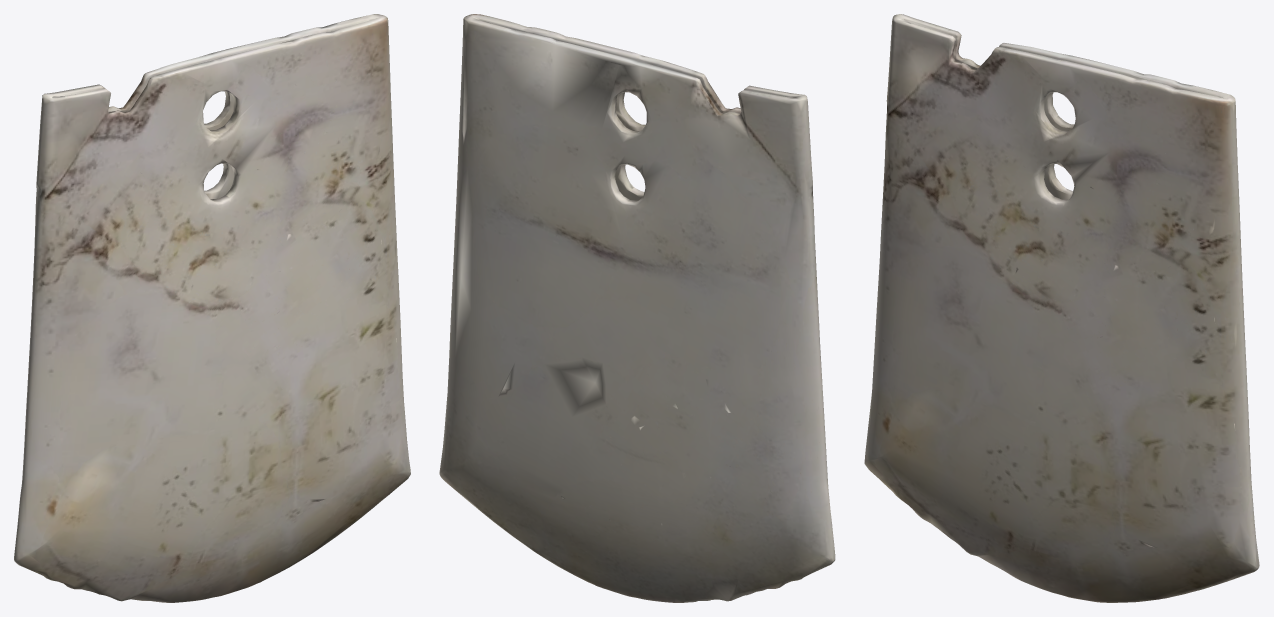
File: double-hole-yue-roaming.glb
3 views of the same model, side by side, from view 1: azimuth 30°, elevation 25°; view 2: azimuth 150°, elevation 25°; view 3: azimuth 330°, elevation 25° (orthographic).
Visible parts, largest first — view 1: node_0; view 2: node_0; view 3: node_0.
Part boxes in pixels (x1,y1,x2,y2): node_0: [14, 14, 410, 602]; node_0: [439, 14, 835, 602]; node_0: [864, 14, 1259, 602].
Size of the model in its own units: 0.7651 by 1 by 0.0997.
Materials: 1 (1 with a texture image).
